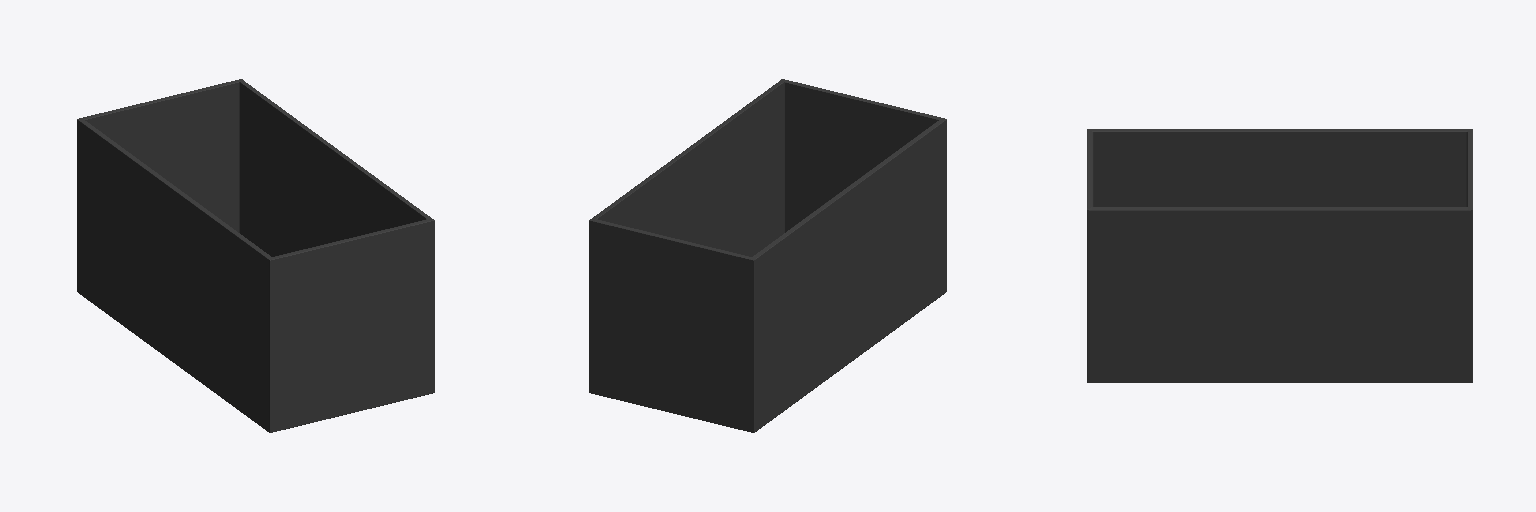
Rendered from nadrz_inv.obj.
3 renders of one model, left to right at view 1: azimuth 30°, elevation 25°; view 2: azimuth 150°, elevation 25°; view 3: azimuth 270°, elevation 25°, orthographic.
Parts seen in each view (by area): view 1: Cube.019_Cube.036; view 2: Cube.019_Cube.036; view 3: Cube.019_Cube.036.
Part boxes in pixels (left/top/right/bottom): Cube.019_Cube.036: left=77, top=79, right=434, bottom=432; Cube.019_Cube.036: left=589, top=79, right=946, bottom=432; Cube.019_Cube.036: left=1087, top=129, right=1472, bottom=382.
Bounding box in the file's own units: 1.27 × 1.27 × 2.57.